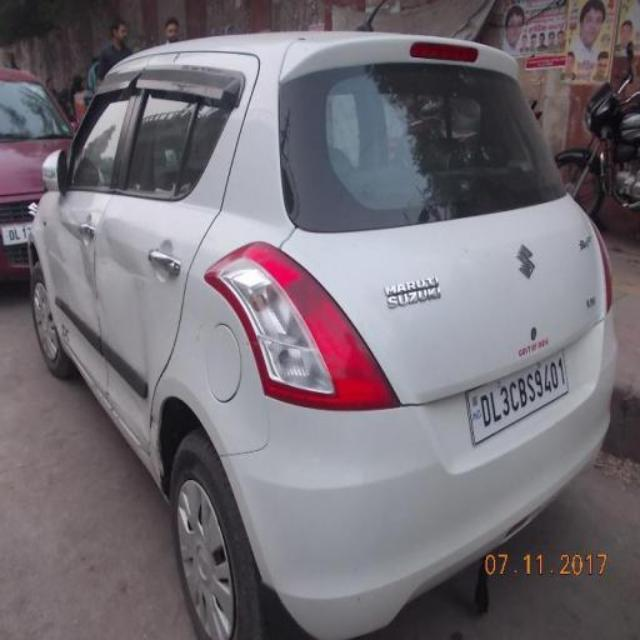dent: (97, 221, 153, 383), (59, 223, 102, 329)
